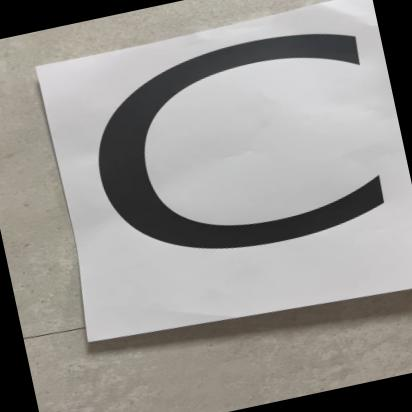seat: (52, 0, 412, 341)
